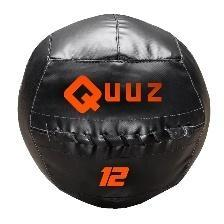Sports-Ball: (16, 15, 209, 208)
